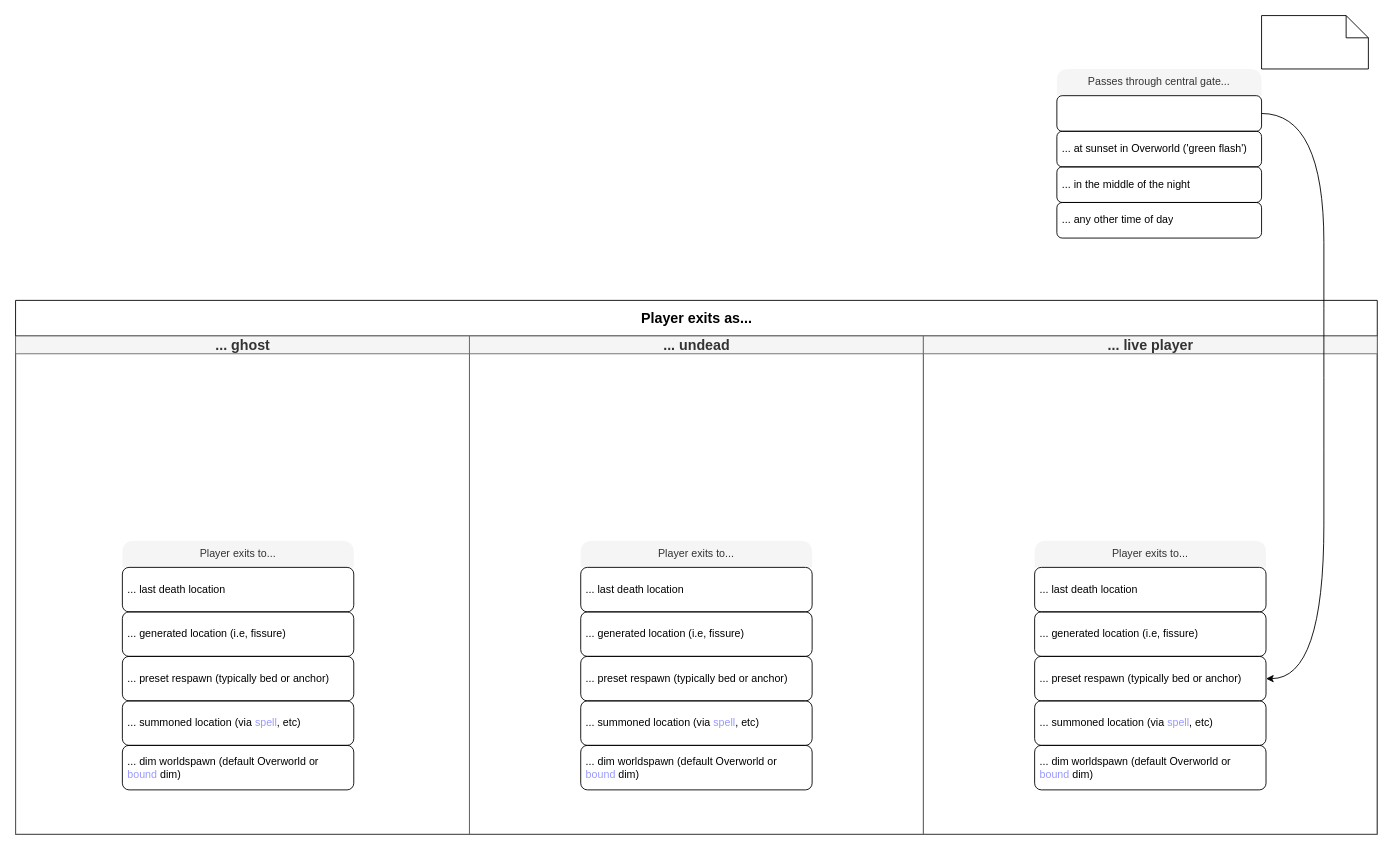
Image size: 1393x850. Some labels were removed from this diagram. The shapes that lost their labels are listed below. From the top down, each one's centre as x and y in pixels, then its label:
At pixel 1314 42: "Comment1 body".
At pixel 1159 113: "... at sunrise in Overworld ('green flash')".
